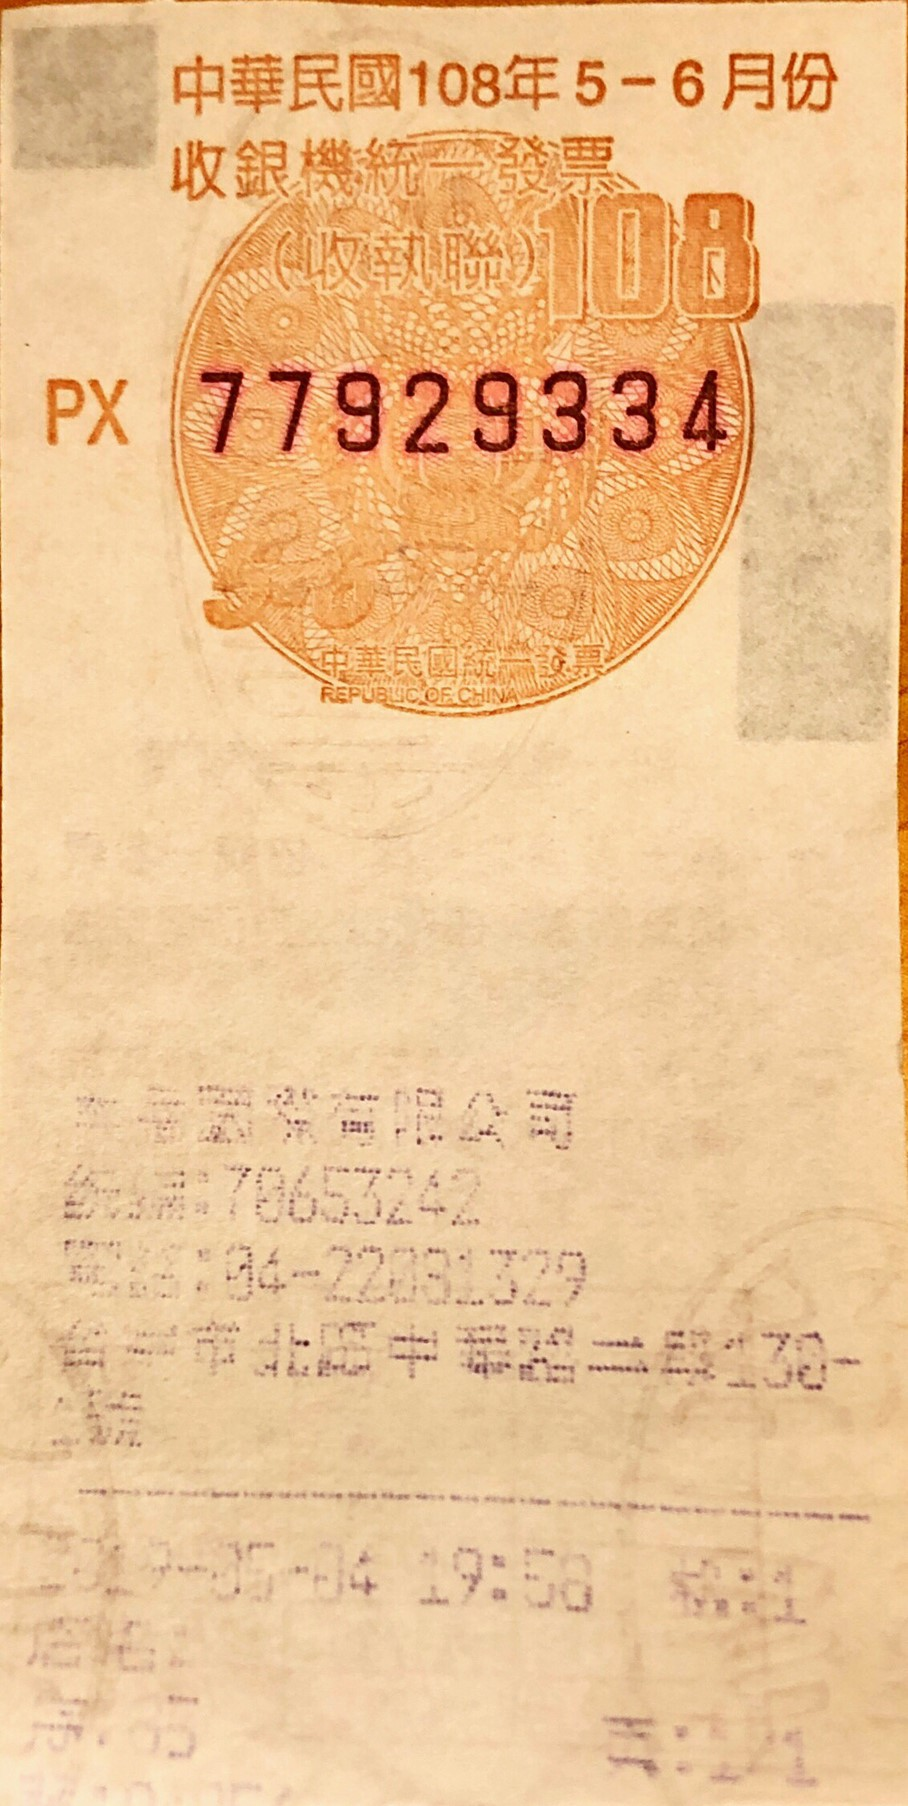Date_Old: (401, 44, 845, 123)
Number_Old: (188, 357, 740, 461)
